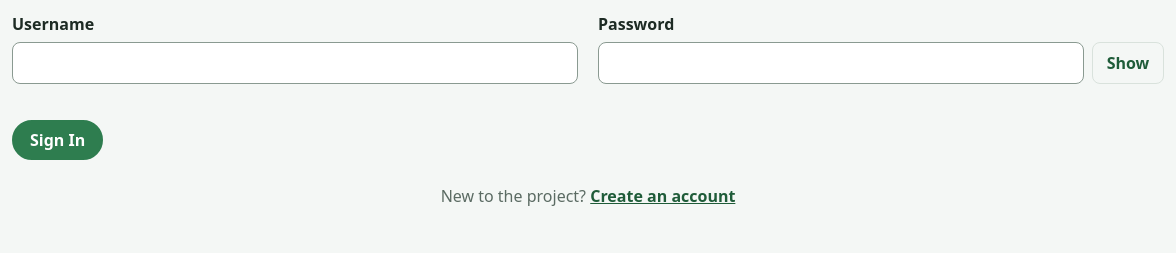
Test: SignInForm › requires a username and a password before sending anything
Click the button "Sign In" at x=58, y=140, box x1=12 y1=120 x2=103 y2=160
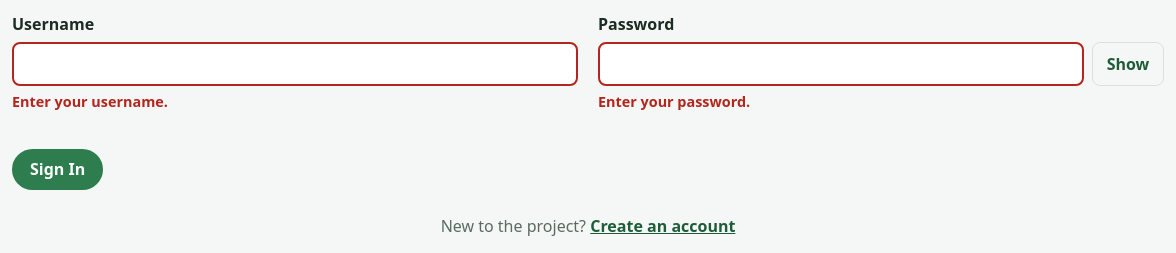
Expected: the text "Enter your username." is shown, x1=12 y1=92 x2=168 y2=111
Expected: the text "Enter your password." is shown, x1=598 y1=92 x2=750 y2=111
